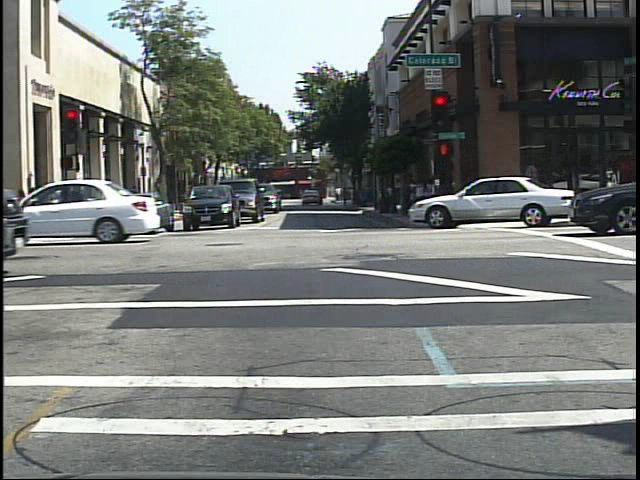person: (105, 179, 123, 223)
